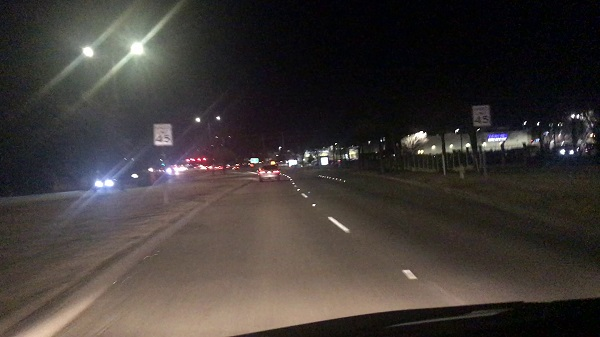car: (257, 162, 281, 180), (93, 176, 117, 189)
